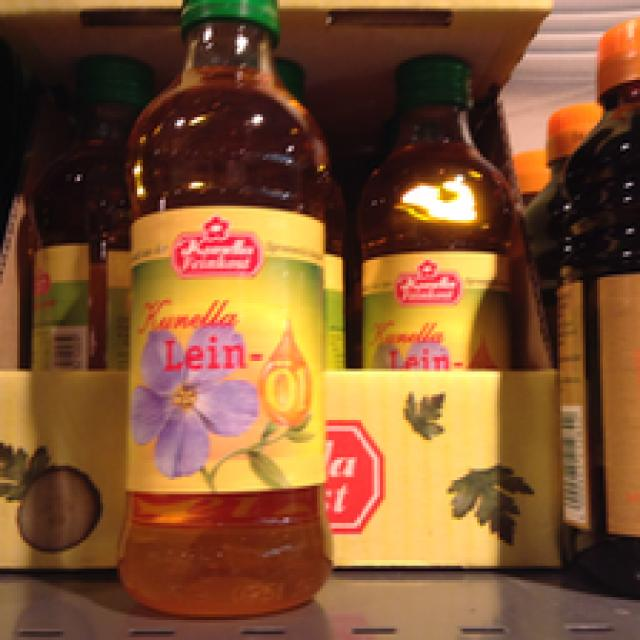groceries: (120, 0, 331, 617), (352, 46, 514, 366)
